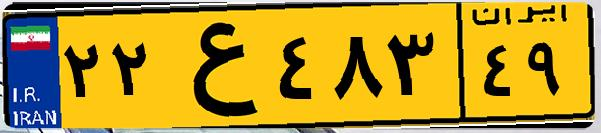2: (57, 26, 110, 100), (110, 28, 158, 98)
3: (385, 28, 445, 110)
4: (270, 28, 330, 110), (475, 38, 525, 113)
8: (330, 28, 385, 110)
9: (525, 38, 570, 115)
ع: (158, 12, 270, 120)
